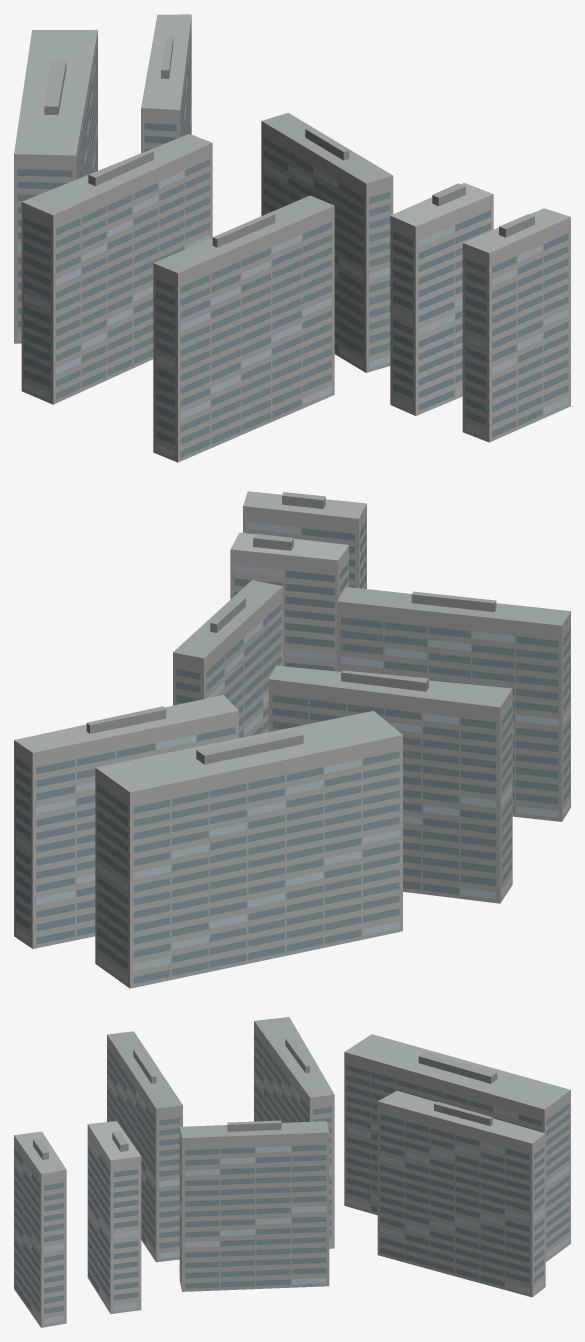
The model's file is apt-a15282405.glb.
3 views of the same model, one above another, from view 1: azimuth 30°, elevation 25°; view 2: azimuth 150°, elevation 25°; view 3: azimuth 270°, elevation 25° (orthographic). The views are drawn at different scales.
Visible parts, largest first — view 1: apt-a15282405; view 2: apt-a15282405; view 3: apt-a15282405.
Boxes of the visible parts, x1,y1,x2,y2 form: apt-a15282405: [14, 14, 570, 462]; apt-a15282405: [14, 491, 570, 988]; apt-a15282405: [14, 1017, 570, 1327].
Size of the model in its own units: 100 by 47.81 by 150.
